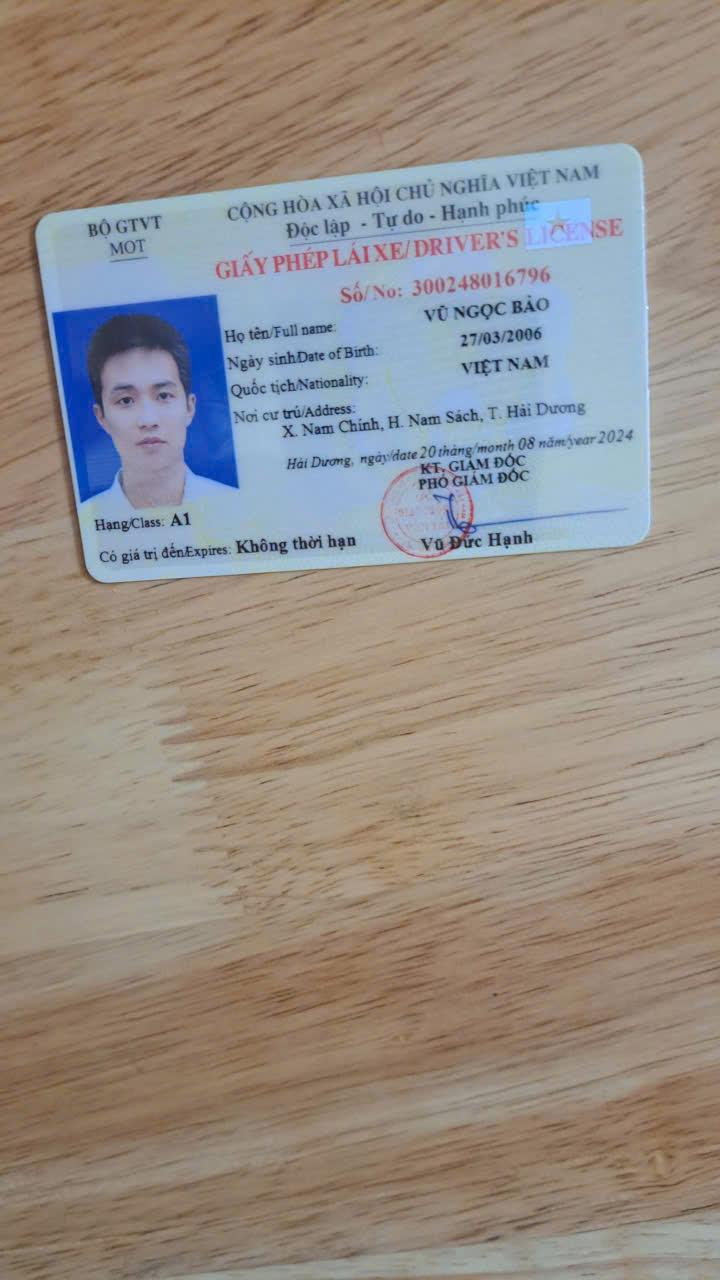gplx: (16, 135, 670, 598)
